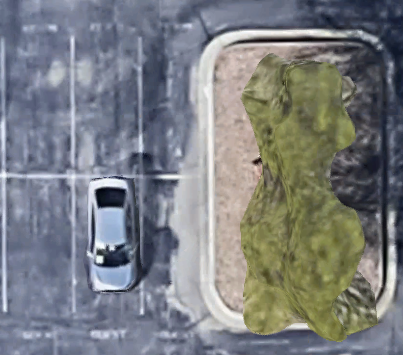Occupied: (74, 176, 142, 314)
Vacant: (3, 175, 75, 313), (2, 36, 73, 175), (72, 37, 141, 177), (140, 37, 203, 176), (141, 177, 204, 313)
